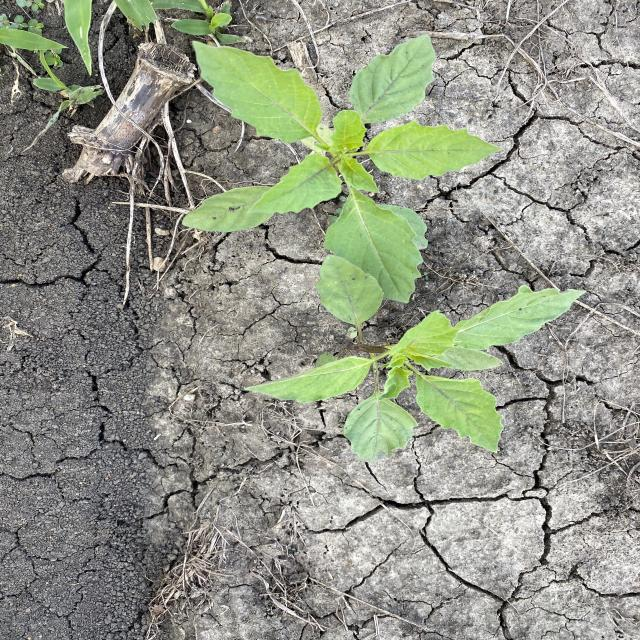CutleafGroundcherry: (178, 32, 508, 307), (238, 253, 593, 463)
